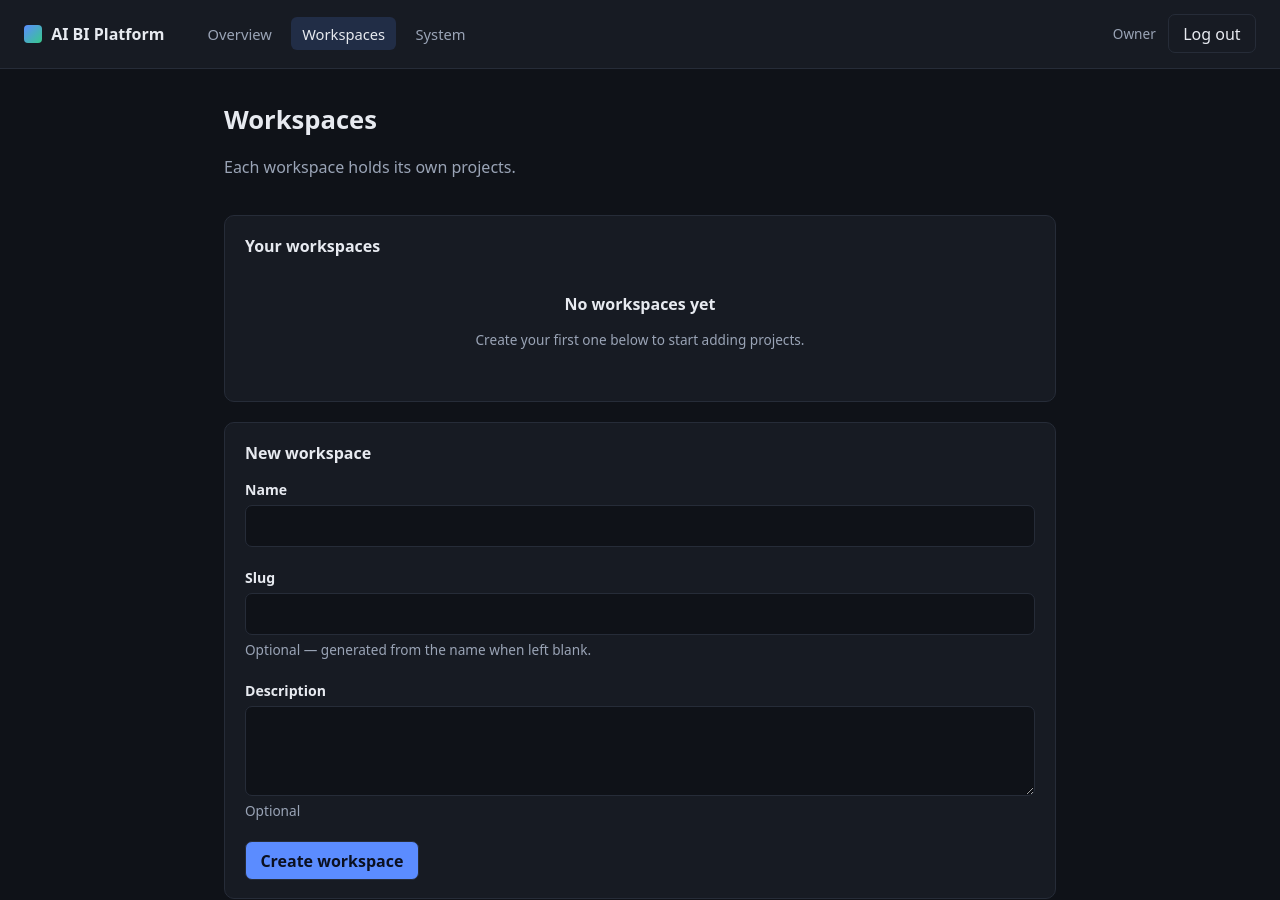
Test: WorkspacesPage › creates a workspace and confirms success
expect the element with test id "workspaces-empty" is shown: met, box [476,293,804,348]
Type "Analytics" into the field labelled "Name" at x=640, y=526, box [245,505,1035,547]
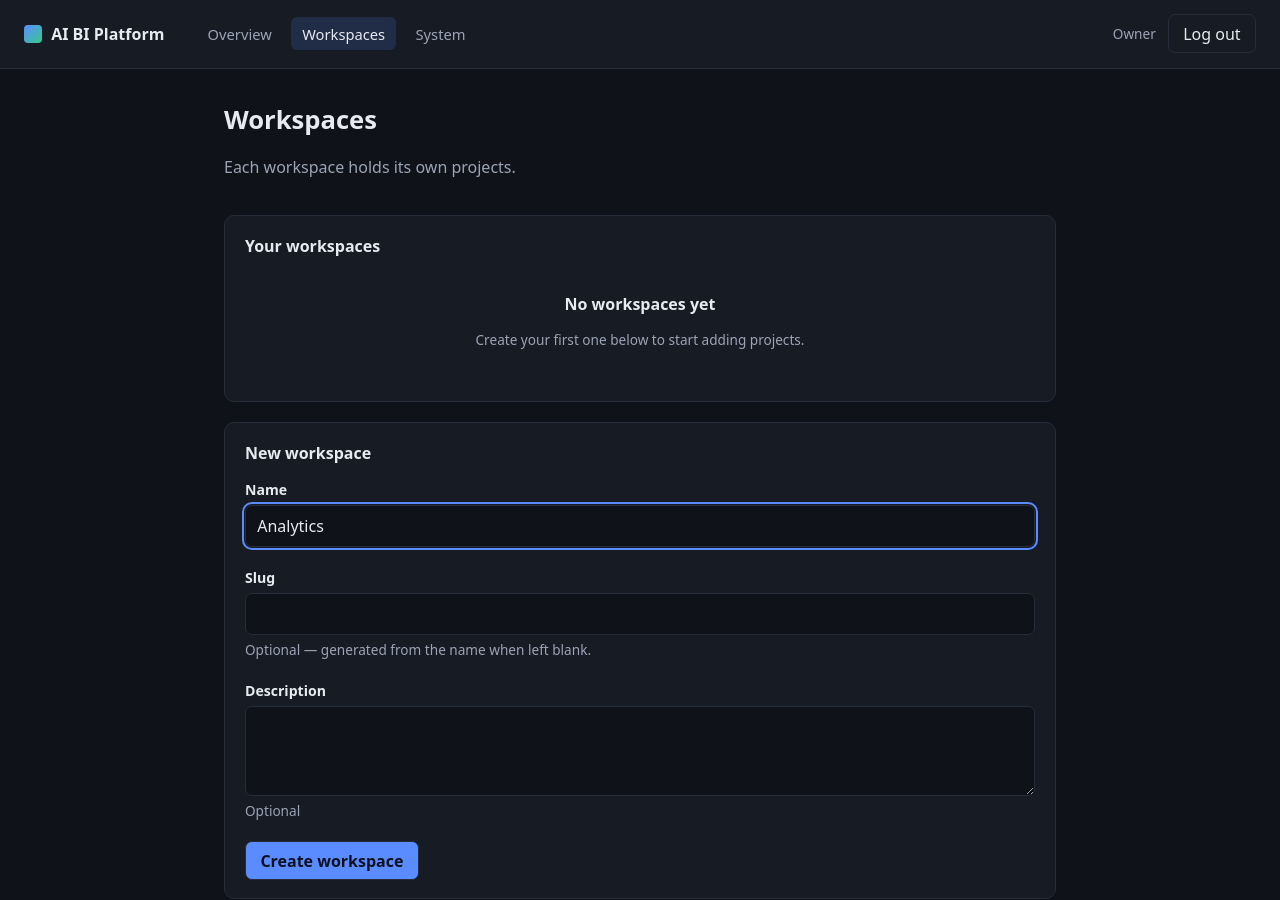
Click the button "Create workspace" at x=332, y=861, box [245,841,419,880]
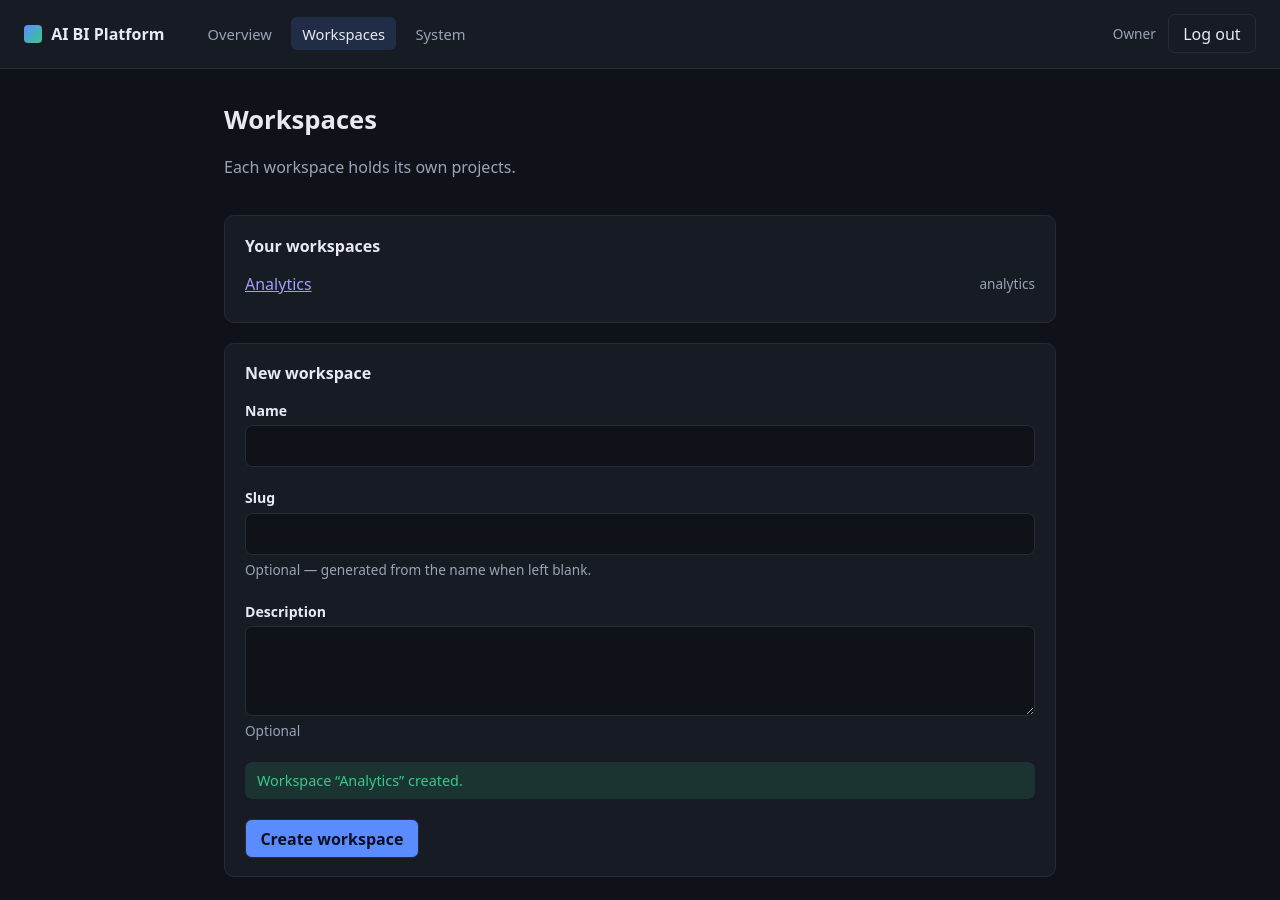
expect the list with test id "workspace-list" is shown: met, box [245,272,1035,304]
expect the message with test id "success-message" shows "created": met, box [257,771,463,790]
